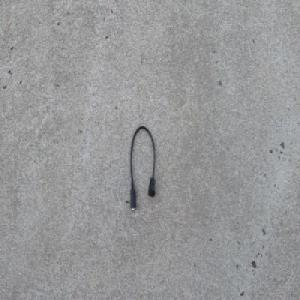Wire: (129, 124, 156, 212)
